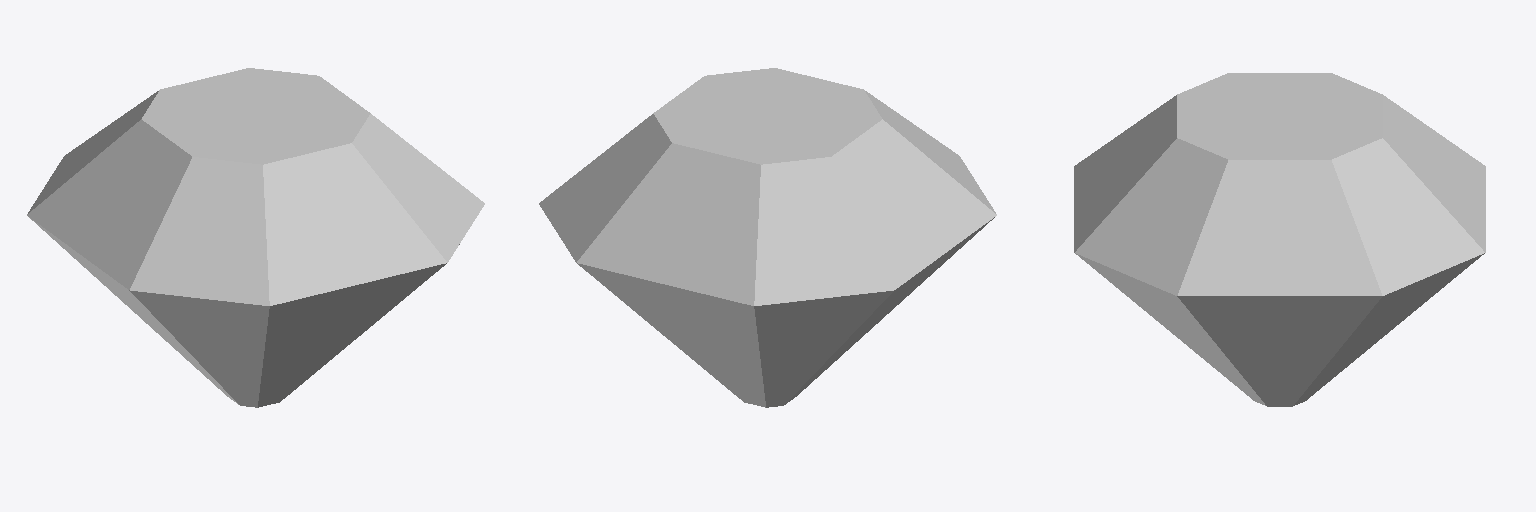
The model's file is diamond.obj.
3 views of the same model, side by side, from view 1: azimuth 30°, elevation 25°; view 2: azimuth 150°, elevation 25°; view 3: azimuth 270°, elevation 25° (orthographic).
Parts seen in each view (by area): view 1: Cube.001; view 2: Cube.001; view 3: Cube.001.
Boxes of the visible parts, x1,y1,x2,y2 form: Cube.001: [27, 68, 484, 407]; Cube.001: [539, 68, 996, 407]; Cube.001: [1074, 73, 1485, 406].
Size of the model in its own units: 0.5 by 0.375 by 0.5.